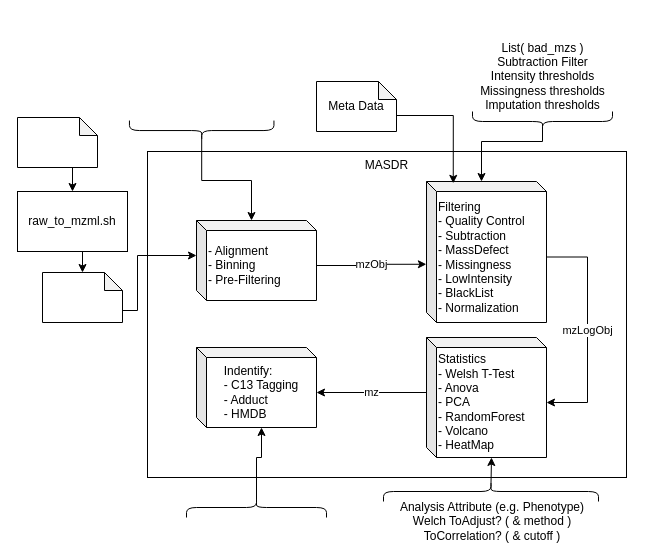
The diagram is 652 pixels wide and 560 high, and some of its shapes have lost their labels. Each missing label, with the centre of its shape:
"Adduct(s)" belongs at (x=256, y=507).
"Binning Math Intensity thresholds Missingness thresholds" belongs at (x=201, y=130).
"files.mzml" belongs at (x=82, y=297).
"Raw Data" belongs at (x=57, y=142).
